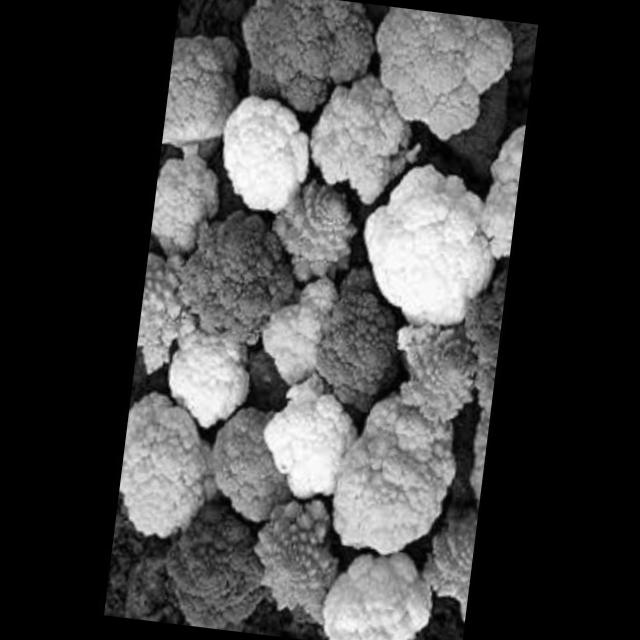cauliflower: (345, 150, 509, 342), (324, 375, 469, 566), (358, 6, 520, 156), (296, 65, 434, 210), (215, 0, 374, 125), (166, 202, 296, 348), (112, 395, 232, 544), (153, 493, 272, 632), (236, 489, 350, 634), (185, 392, 296, 528), (254, 375, 364, 506), (204, 96, 312, 224), (260, 165, 376, 284), (307, 540, 442, 640), (368, 308, 478, 425), (160, 19, 252, 158), (130, 242, 210, 396), (150, 320, 251, 438), (250, 268, 350, 384), (456, 119, 524, 268), (147, 147, 231, 263), (416, 495, 478, 633), (446, 269, 505, 411)
